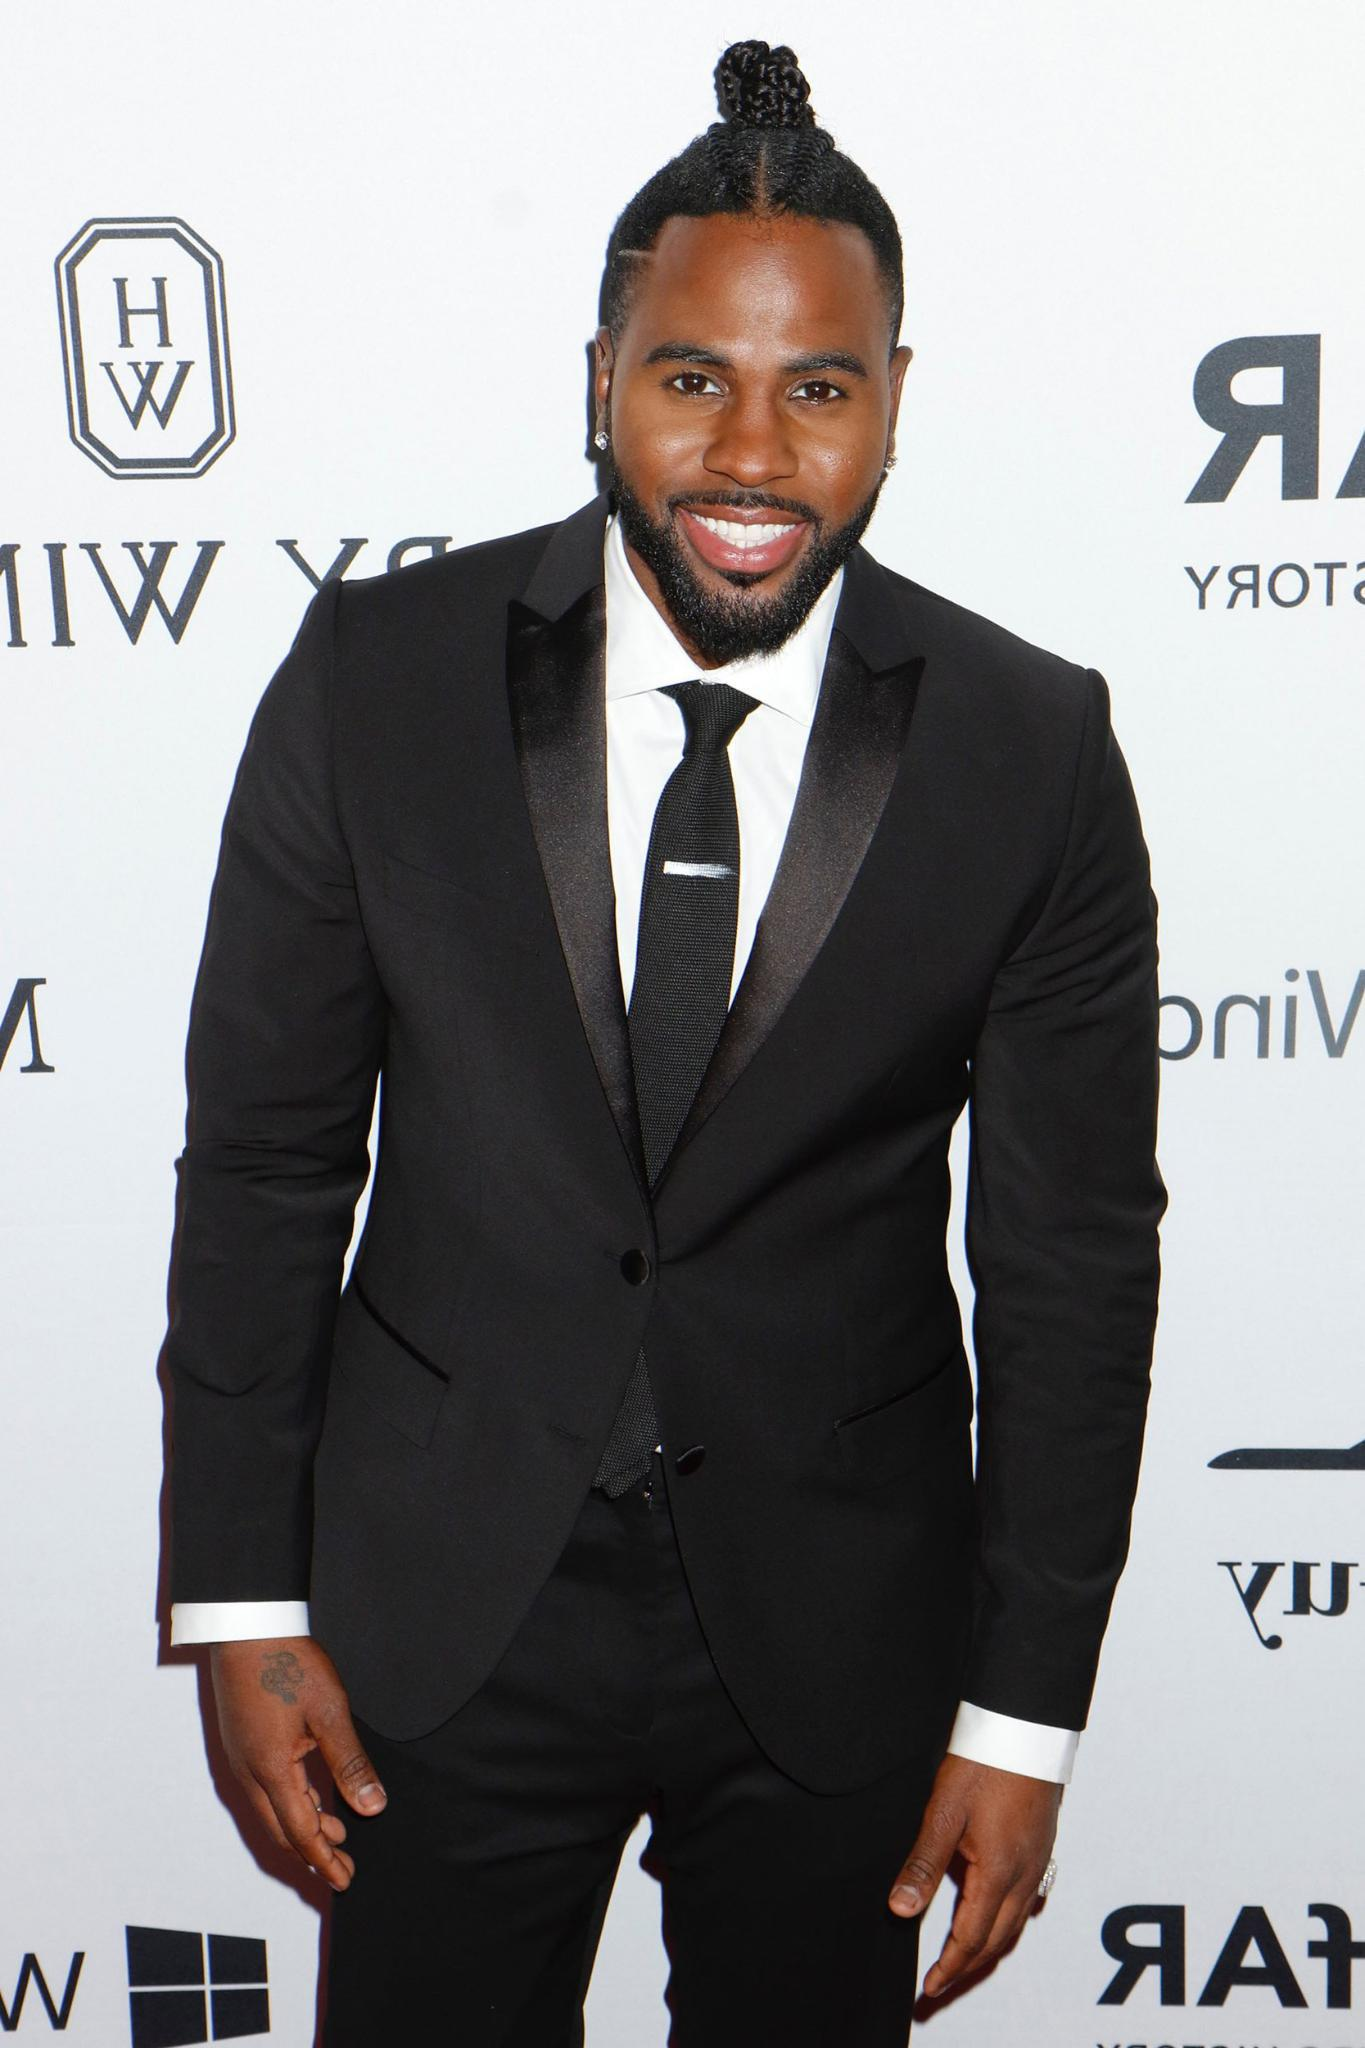Sober: (602, 216, 884, 621)
